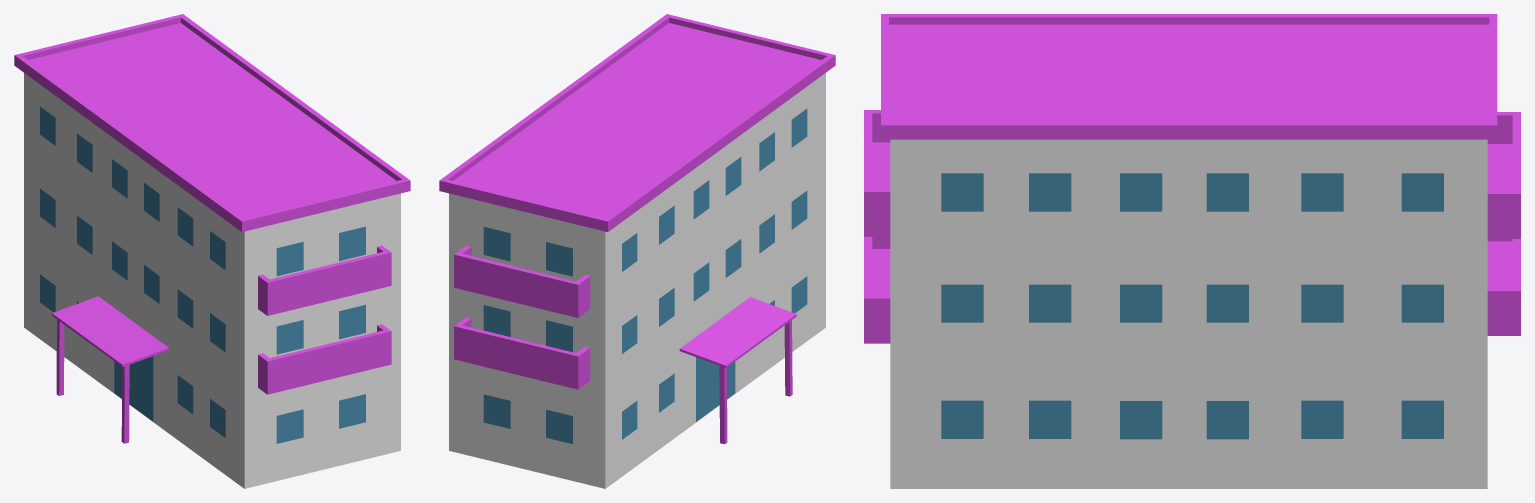
File: building_purple.glb
3 renders of one model, left to right at view 1: azimuth 30°, elevation 25°; view 2: azimuth 150°, elevation 25°; view 3: azimuth 270°, elevation 25°, orthographic. The views are drawn at different scales.
Parts seen in each view (by area): view 1: building; view 2: building; view 3: building.
Boxes of the visible parts, <box> form: building: <box>14,14,410,488</box>; building: <box>439,14,835,488</box>; building: <box>864,14,1520,488</box>.
Size of the model in its own units: 7.87 by 9.79 by 15.82.
Materials: 1 (1 with a texture image).
